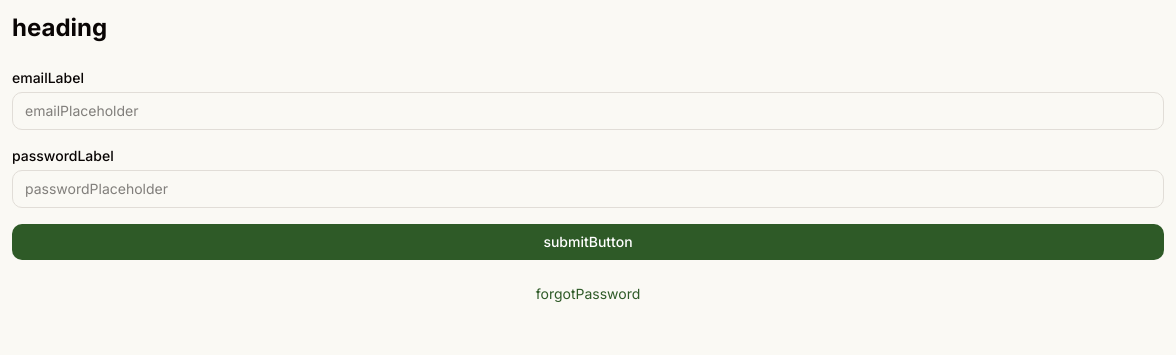
Test: LoginForm › shows ban message when API returns 403 with detail 'banned'
Type "banned@example.com" into the field labelled "emailLabel".
click(588, 111); type("banned@example.com")  # box [12, 92, 1164, 130]
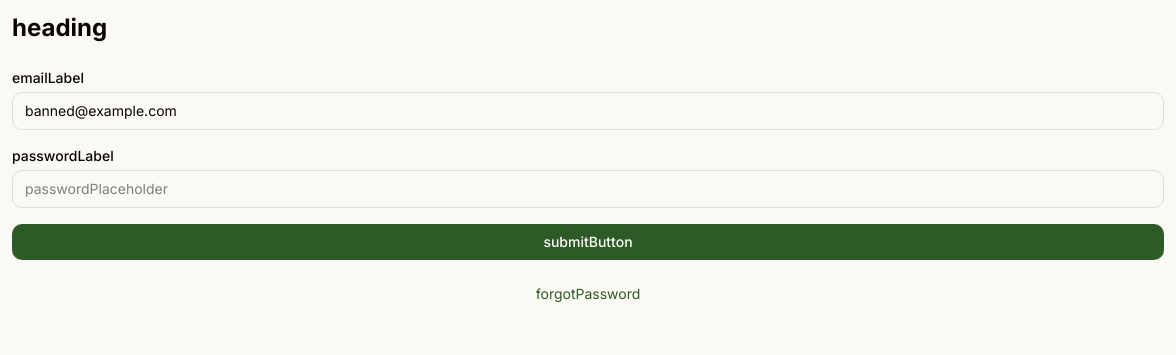
Type "Pass1!" into the password field labelled "passwordLabel".
click(588, 189); type("Pass1!")  # box [12, 170, 1164, 208]
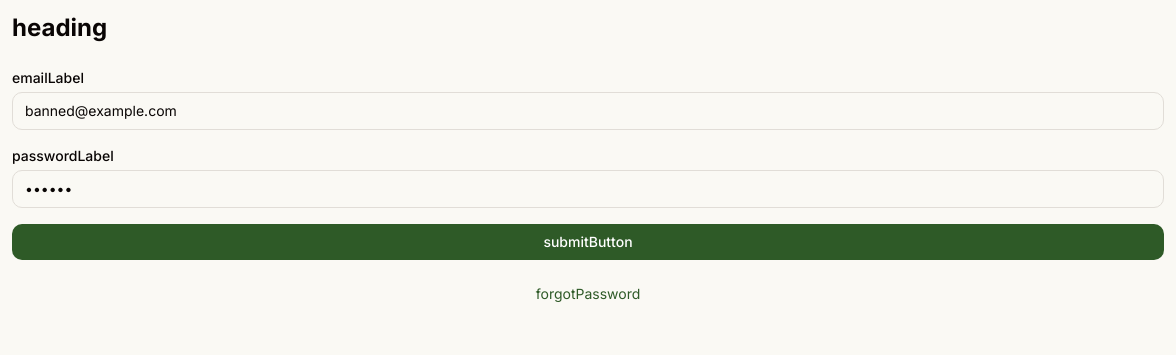
Click the button "submitButton".
click(588, 242)  # box [12, 224, 1164, 260]
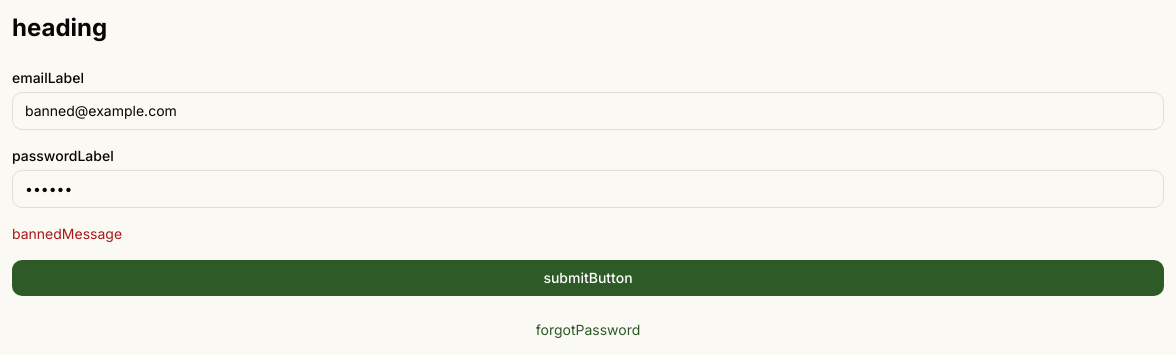
Expected: the text "bannedMessage" is shown, [12, 225, 122, 242]
